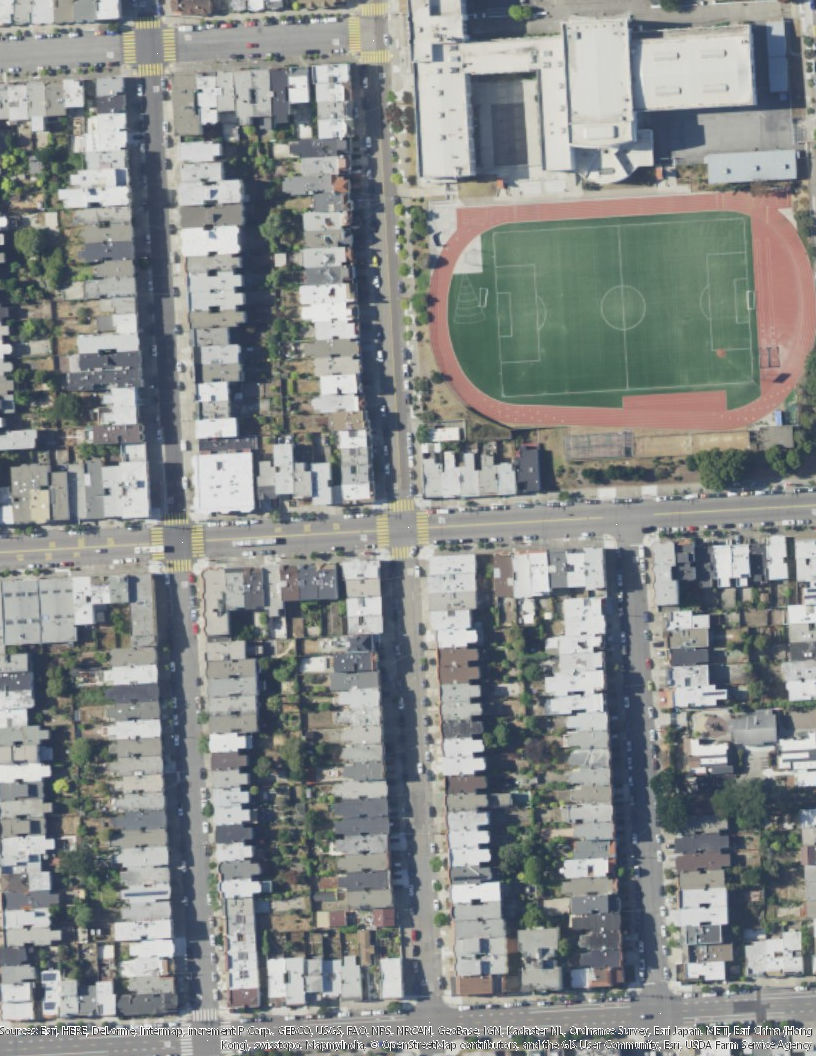zebracross: (148, 527, 165, 560), (386, 497, 416, 515), (161, 28, 176, 63), (120, 31, 136, 63), (190, 524, 204, 558), (348, 16, 360, 55), (191, 1008, 222, 1023), (415, 513, 430, 544), (362, 50, 392, 65), (376, 513, 389, 547), (361, 2, 388, 17), (391, 545, 416, 561), (161, 511, 187, 526), (140, 61, 165, 76), (132, 16, 160, 29), (168, 560, 191, 573), (180, 1038, 193, 1056)
